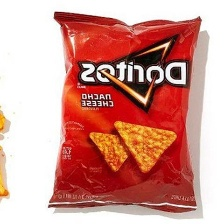snack: (41, 6, 211, 217)
